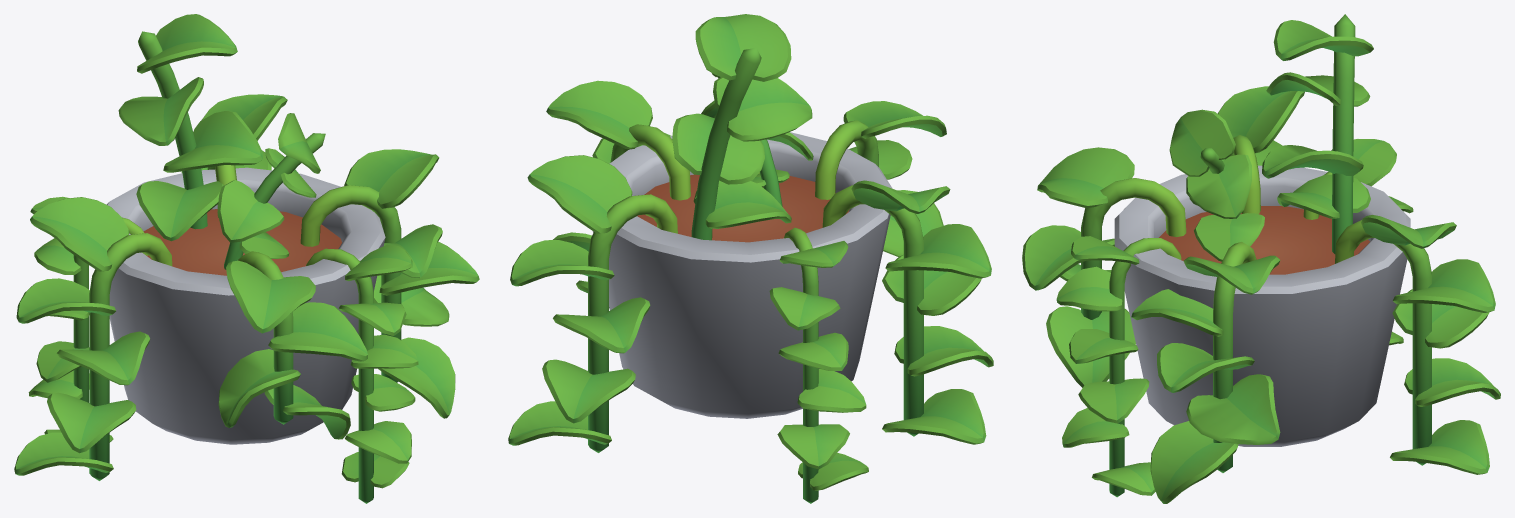
The model's file is pothos-plant-large.glb.
3 views of the same model, side by side, from view 1: azimuth 30°, elevation 25°; view 2: azimuth 150°, elevation 25°; view 3: azimuth 270°, elevation 25° (orthographic). The views are drawn at different scales.
Parts seen in each view (by area): view 1: pothos_plant_large_potted; view 2: pothos_plant_large_potted; view 3: pothos_plant_large_potted.
Part boxes in pixels (x1,y1,x2,y2): pothos_plant_large_potted: (14, 14, 479, 503); pothos_plant_large_potted: (508, 14, 993, 503); pothos_plant_large_potted: (1022, 14, 1500, 503).
Size of the model in its own units: 2.53 by 2.4 by 2.41.
1 material, 1 textured.
